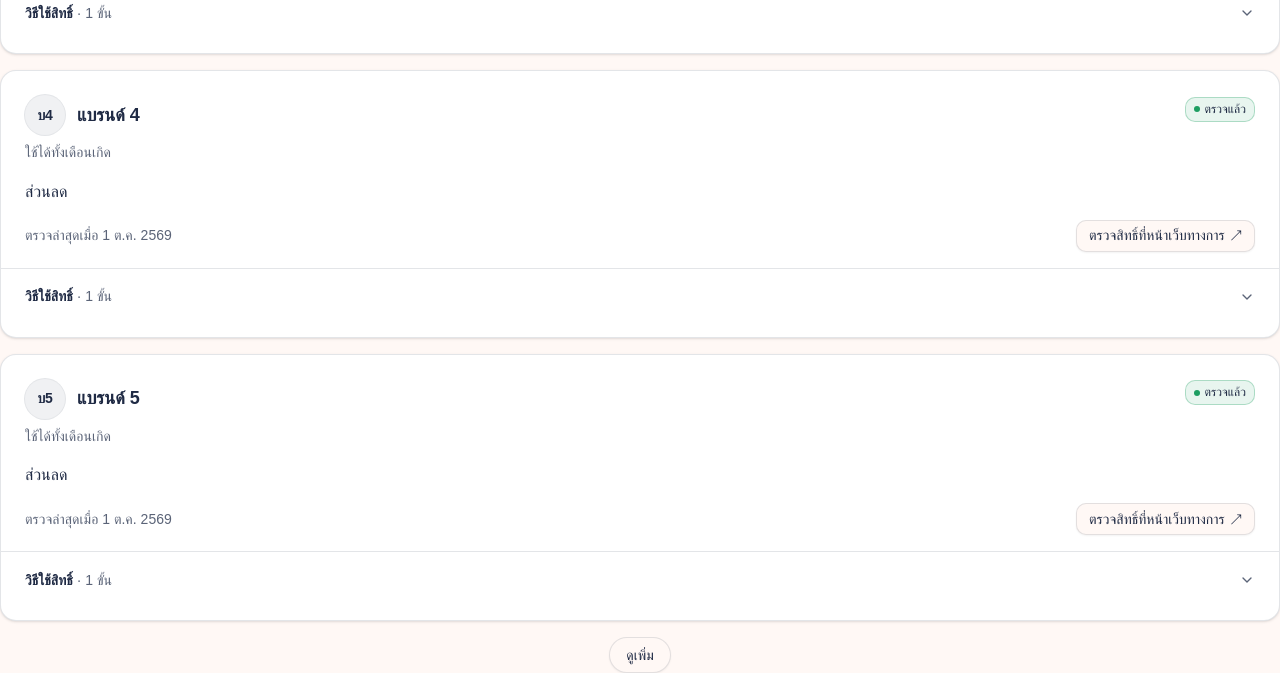
Test: FilteredPromoList › โหลดทีละ 5 › เปลี่ยนตัวกรองแล้วกลับไปเริ่มที่ 5 ใบ
(page scrolled)
Click the button "ดูเพิ่ม" at (640, 655), box x1=609 y1=637 x2=671 y2=672
(page scrolled)
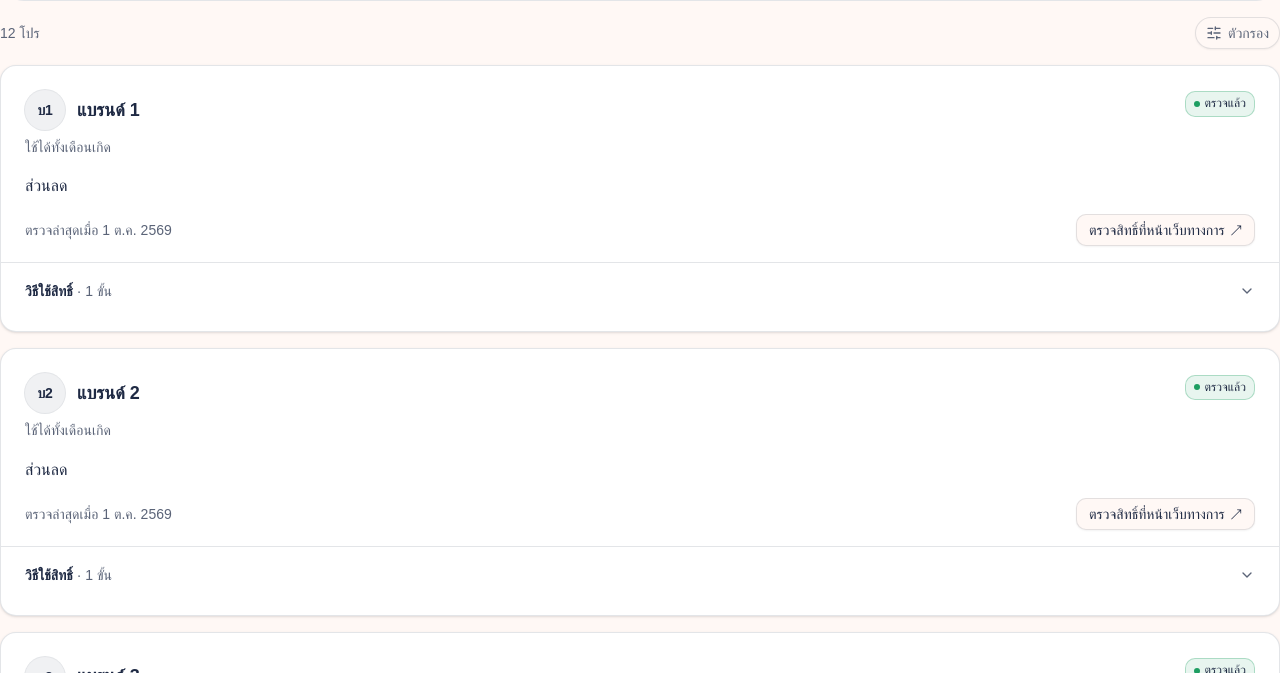
Click the button "ตัวกรอง" at (1238, 33), box x1=1195 y1=17 x2=1279 y2=49
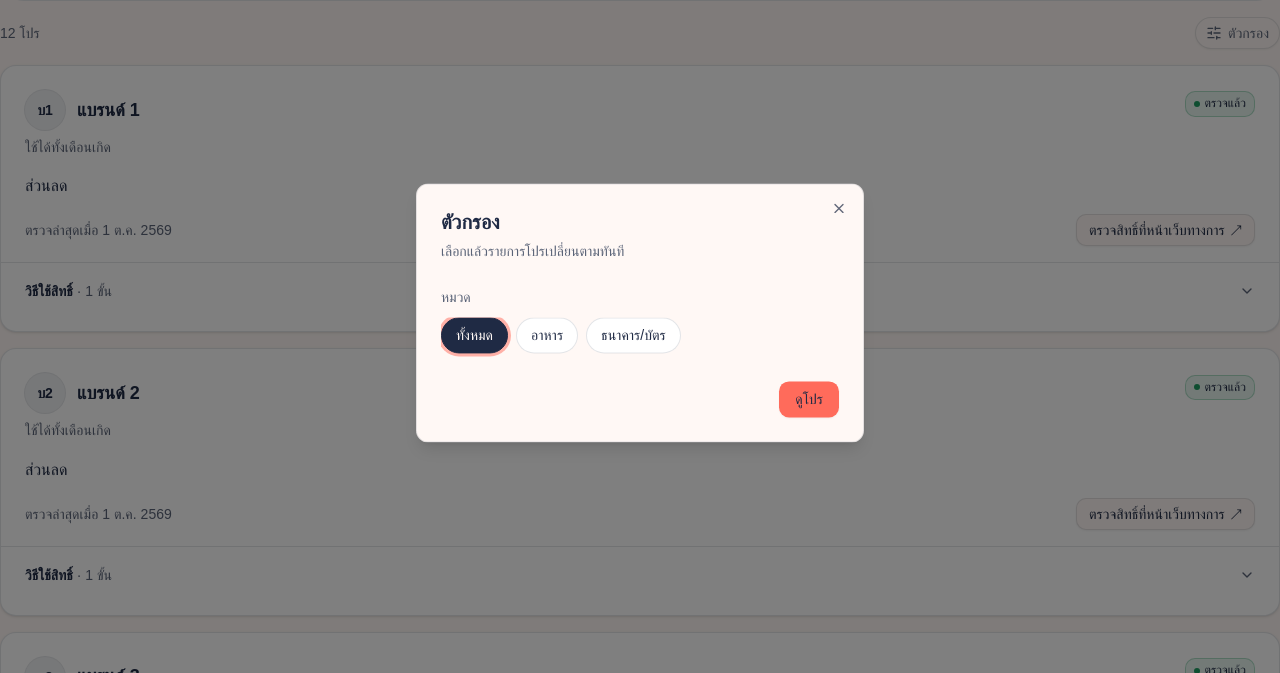
Click the button "อาหาร" at (547, 335), box x1=516 y1=317 x2=578 y2=354
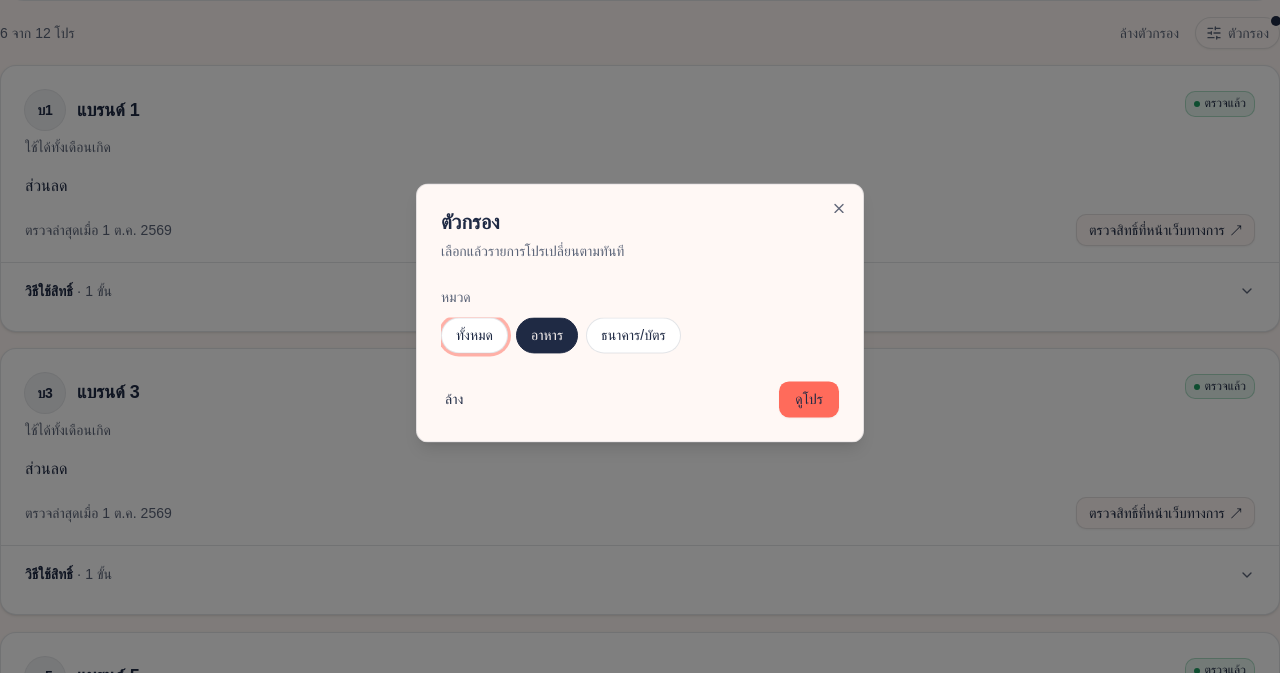
Result: the message reads "6 จาก 12 โปร" at x1=0 y1=25 x2=75 y2=41
